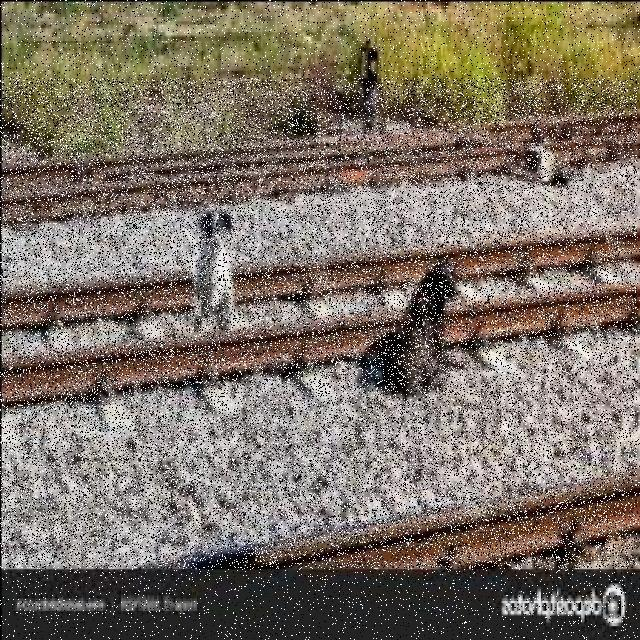danger: (375, 260, 460, 402), (180, 211, 238, 344)
rail: (0, 78, 637, 568)
